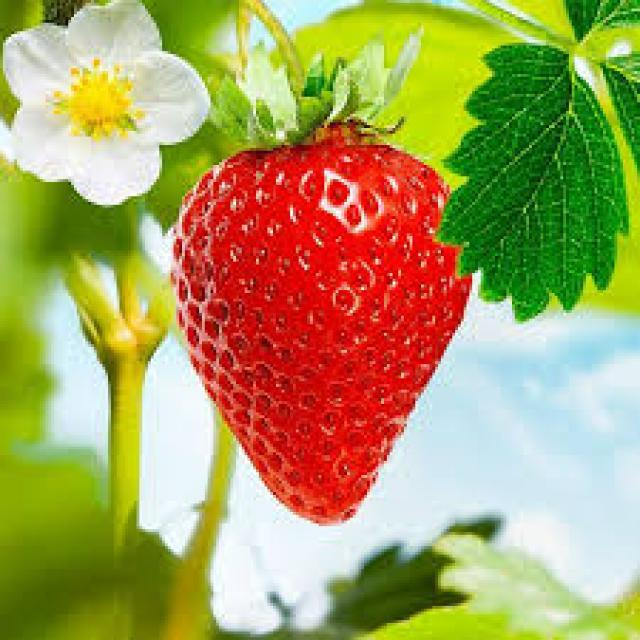strawberry: (162, 77, 481, 532)
